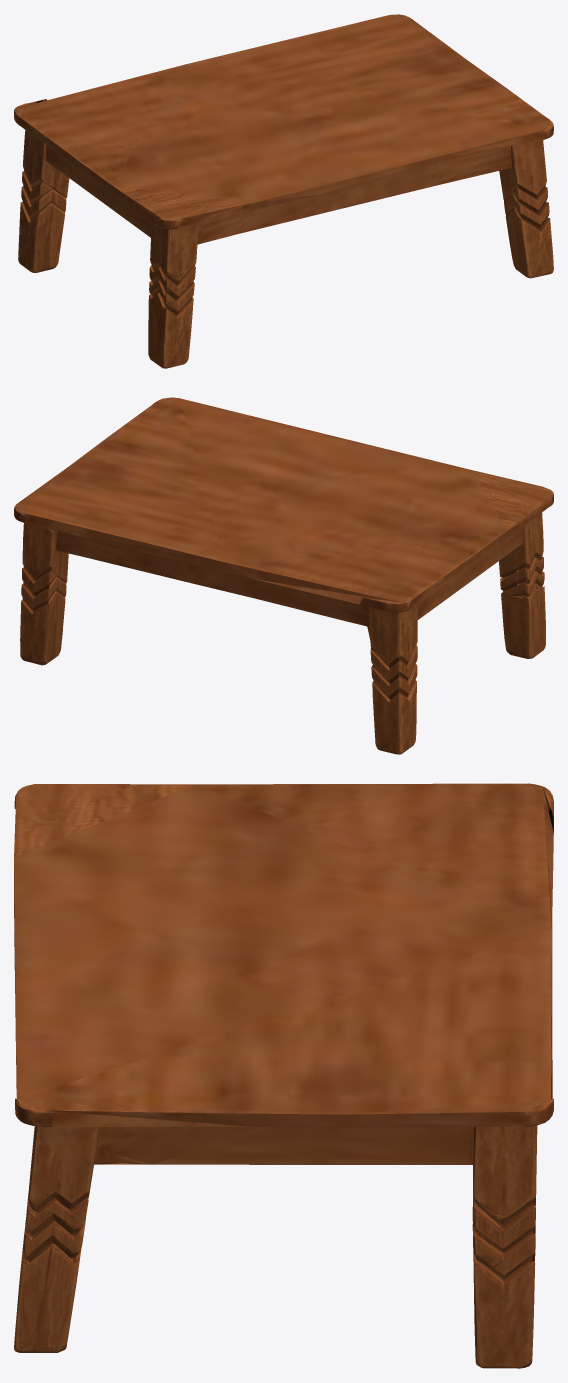
File: low-table.glb
3 renders of one model, top to bottom at view 1: azimuth 30°, elevation 25°; view 2: azimuth 150°, elevation 25°; view 3: azimuth 270°, elevation 25°, orthographic. The views are drawn at different scales.
Parts seen in each view (by area): view 1: output_unwrapped; view 2: output_unwrapped; view 3: output_unwrapped.
Boxes of the visible parts, x1=… form: output_unwrapped: x1=14, y1=14, x2=553, y2=368; output_unwrapped: x1=14, y1=397, x2=553, y2=754; output_unwrapped: x1=14, y1=783, x2=553, y2=1368.
Bounding box in the file's own units: 1.13 × 0.42 × 0.78.
1 material, 1 textured.
